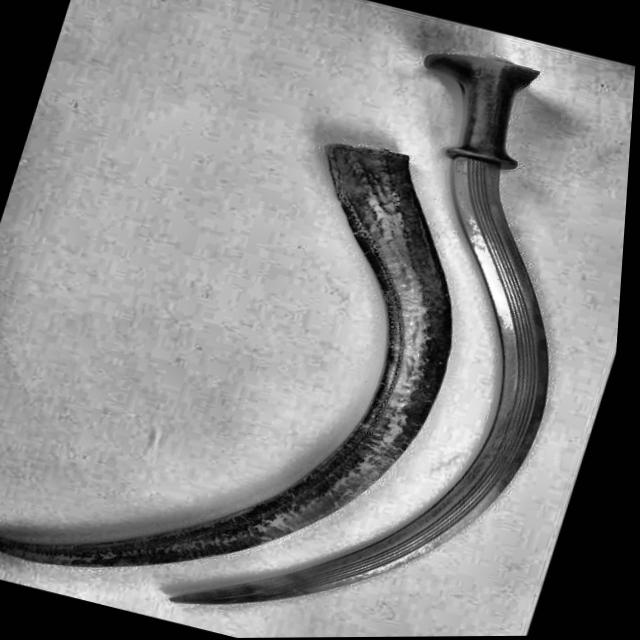celurit: (141, 37, 559, 620)
